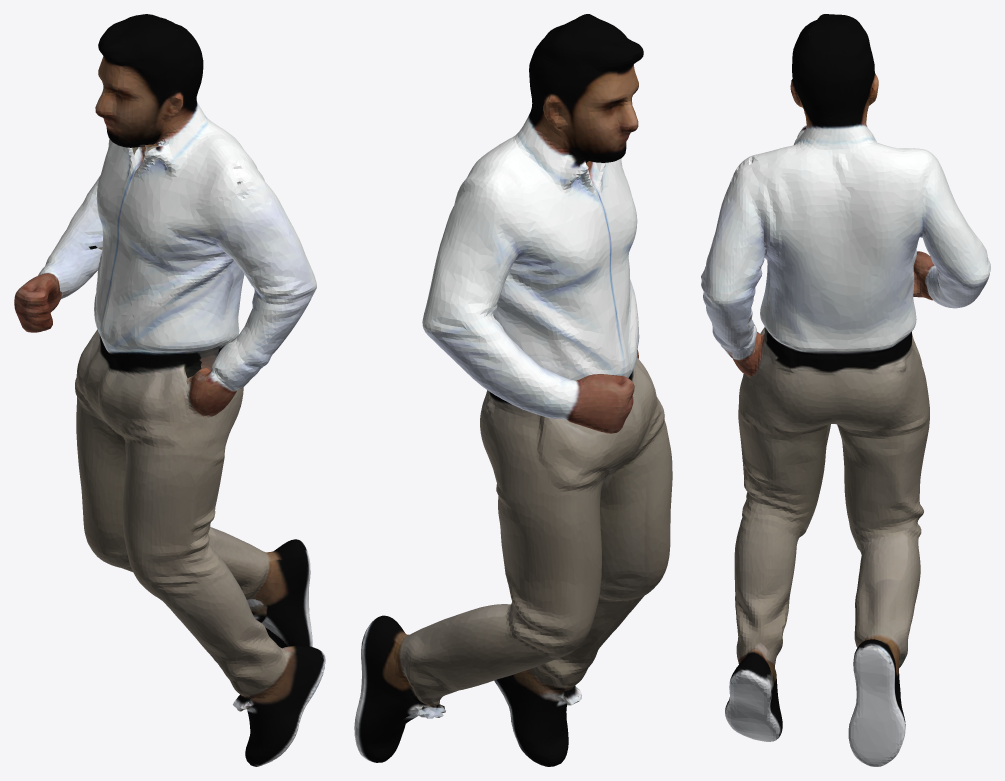
The model's file is run_2.glb.
3 renders of one model, left to right at view 1: azimuth 30°, elevation 25°; view 2: azimuth 150°, elevation 25°; view 3: azimuth 270°, elevation 25°, orthographic. The views are drawn at different scales.
Parts seen in each view (by area): view 1: tmpv1cfu36r.ply; view 2: tmpv1cfu36r.ply; view 3: tmpv1cfu36r.ply.
Boxes of the visible parts, x1,y1,x2,y2 form: tmpv1cfu36r.ply: (14, 14, 325, 766); tmpv1cfu36r.ply: (354, 14, 672, 766); tmpv1cfu36r.ply: (701, 14, 990, 766).
Size of the model in its own units: 0.7564 by 1.99 by 0.7608.
Materials: 1 (1 with a texture image).
